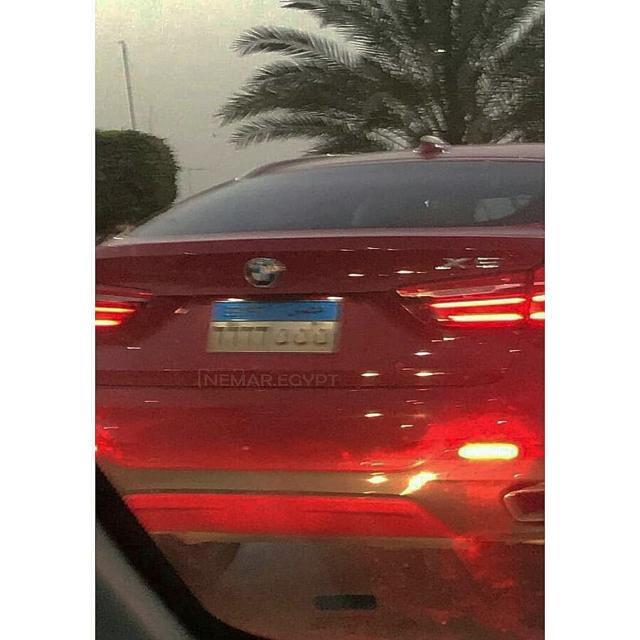License Plate: (204, 296, 342, 357)
